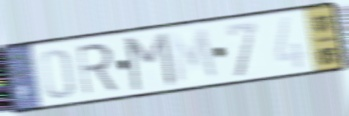0: (40, 46, 77, 100)
4: (274, 15, 309, 71)
7: (224, 18, 261, 79)
M: (124, 29, 178, 94), (166, 26, 221, 87)
R: (74, 40, 121, 98)
